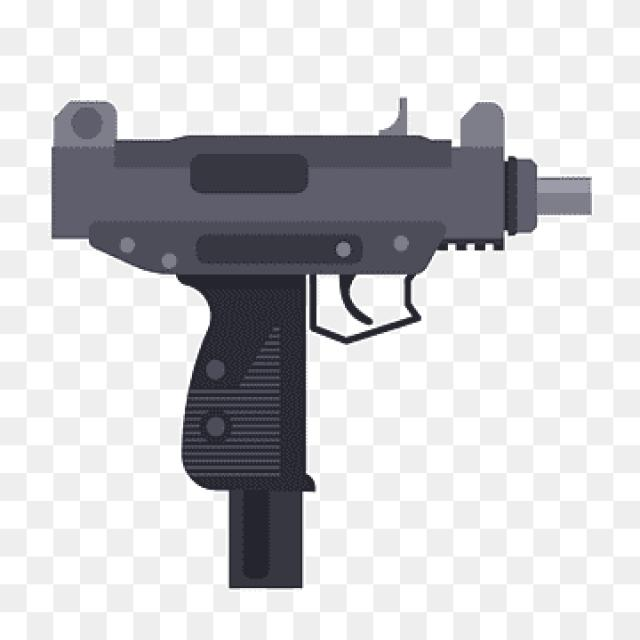firearm: (48, 98, 592, 594)
